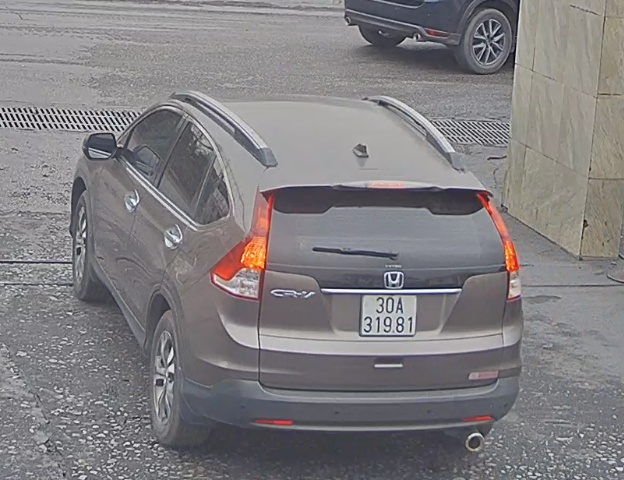vehicle plate: (358, 287, 418, 337)
